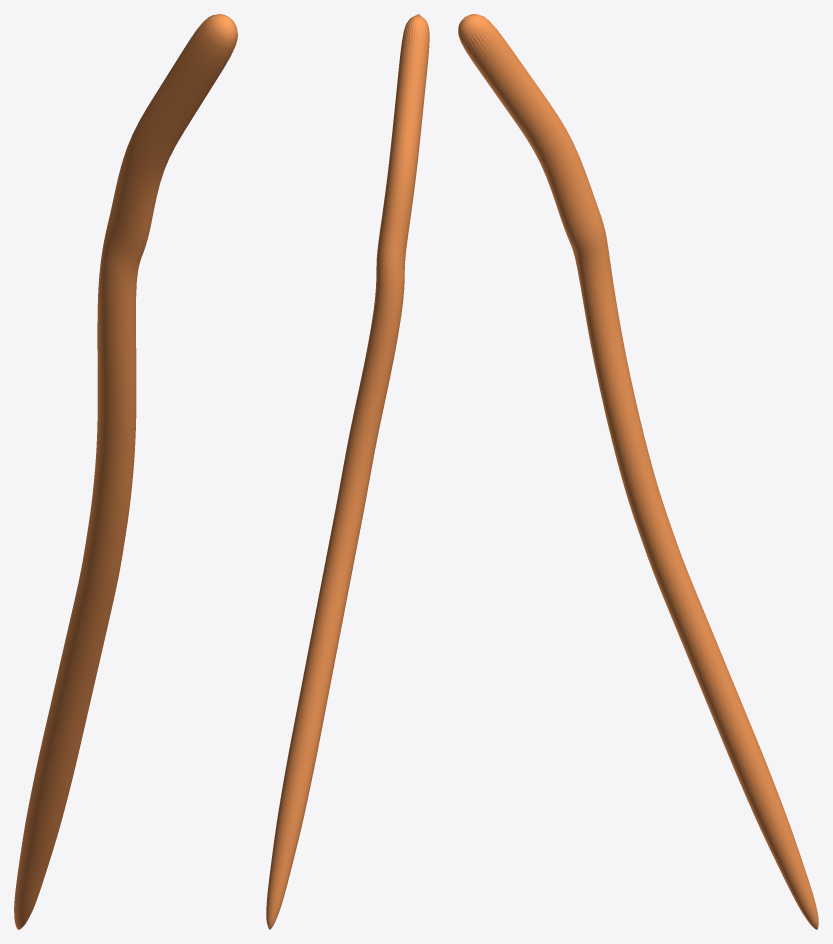
File: tail.fbx
3 views of the same model, side by side, from view 1: azimuth 30°, elevation 25°; view 2: azimuth 150°, elevation 25°; view 3: azimuth 270°, elevation 25° (orthographic). The views are drawn at different scales.
Parts seen in each view (by area): view 1: Cylinder; view 2: Cylinder; view 3: Cylinder.
Part boxes in pixels (<box>): Cylinder: <box>14,14,237,929</box>; Cylinder: <box>266,14,429,929</box>; Cylinder: <box>458,14,818,929</box>.
Size of the model in its own units: 259 by 4126 by 1471.
